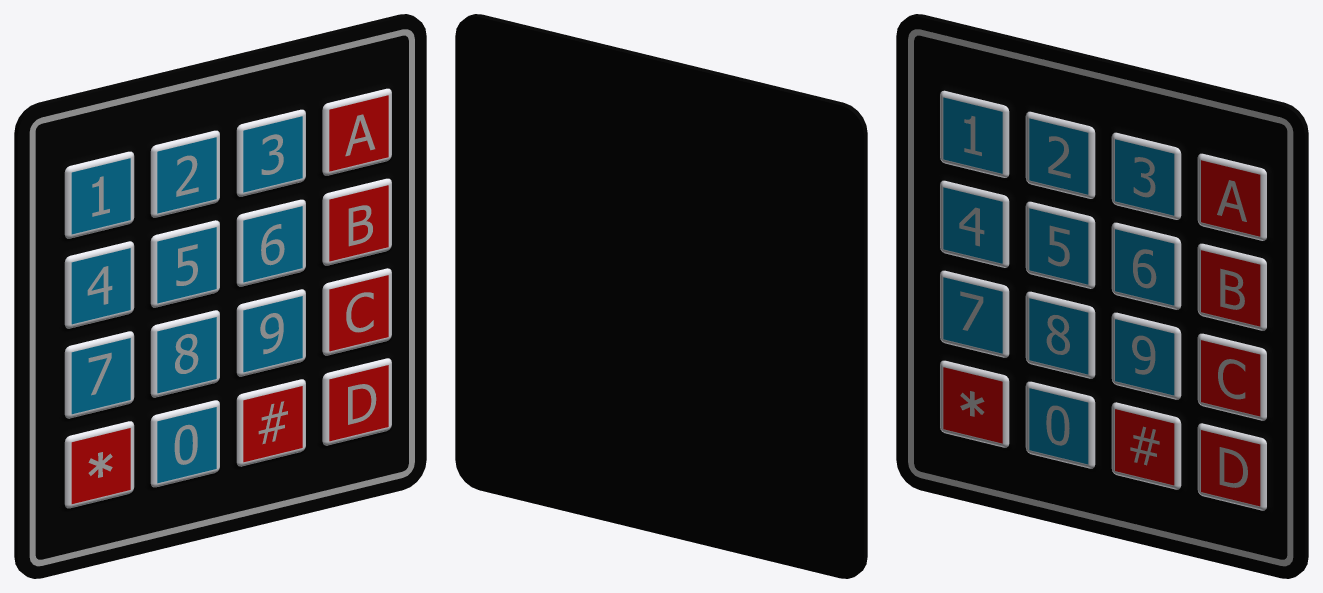
File: KeyBoard.obj
3 renders of one model, left to right at view 1: azimuth 30°, elevation 25°; view 2: azimuth 150°, elevation 25°; view 3: azimuth 330°, elevation 25°, orthographic.
Visible parts, largest first — view 1: Solid1; view 2: Solid1; view 3: Solid1.
Boxes of the visible parts, x1,y1,x2,y2 form: Solid1: [14, 14, 426, 578]; Solid1: [455, 14, 867, 578]; Solid1: [896, 14, 1308, 578].
Size of the model in its own units: 69 by 76.3 by 2.
